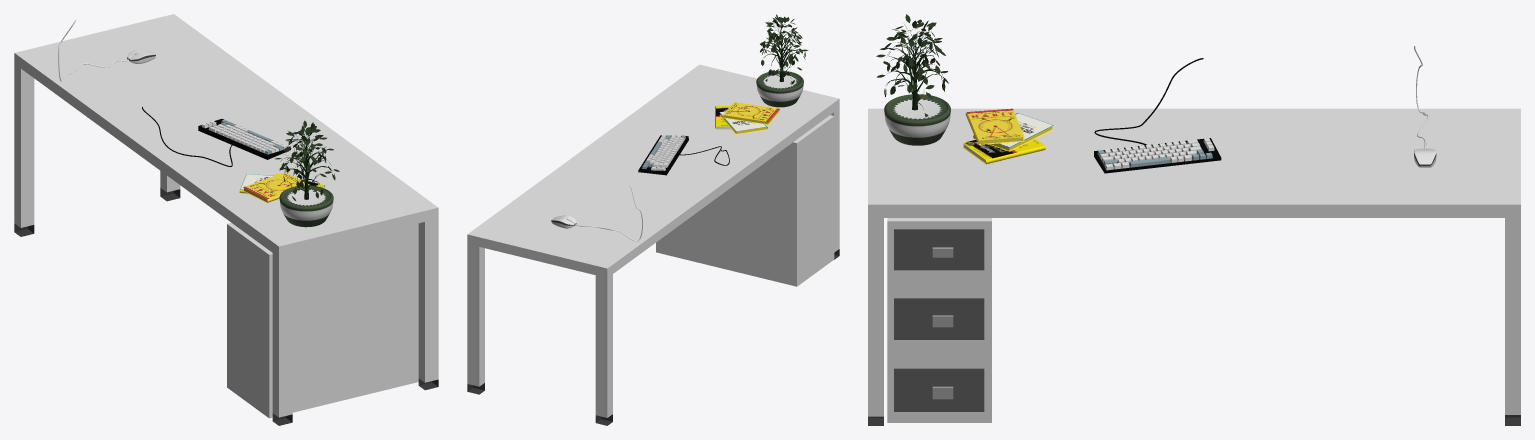
Rendered from Desk.glb.
3 views of the same model, side by side, from view 1: azimuth 30°, elevation 25°; view 2: azimuth 150°, elevation 25°; view 3: azimuth 270°, elevation 25° (orthographic). The views are drawn at different scales.
Visible parts, largest first — view 1: bureau, ladekast, plantenpot, keyboard, leaves, boek3, tree; view 2: bureau, ladekast, plantenpot, keyboard, leaves, boek3, tree, boek2; view 3: bureau, ladekast, keyboard, plantenpot, leaves, boek3, boek1, tree, boek2.
Part boxes in pixels (<box>): bureau: <box>14,14,438,425</box>; ladekast: <box>227,223,418,418</box>; plantenpot: <box>279,185,333,227</box>; keyboard: <box>198,119,291,159</box>; leaves: <box>274,120,339,200</box>; boek3: <box>243,172,309,202</box>; tree: <box>284,135,332,199</box>; bureau: <box>467,64,839,425</box>; ladekast: <box>656,115,834,286</box>; plantenpot: <box>756,70,803,107</box>; keyboard: <box>638,135,688,175</box>; leaves: <box>760,14,808,84</box>; boek3: <box>723,102,779,124</box>; tree: <box>763,24,803,81</box>; boek2: <box>719,111,767,134</box>; bureau: <box>868,108,1520,425</box>; ladekast: <box>887,218,991,422</box>; keyboard: <box>1094,138,1221,173</box>; plantenpot: <box>884,94,950,145</box>; leaves: <box>876,14,948,117</box>; boek3: <box>965,108,1024,144</box>; boek1: <box>963,139,1045,164</box>; tree: <box>885,30,944,110</box>; boek2: <box>973,113,1053,151</box>.
Size of the model in its own units: 1.33 by 2.15 by 3.72.
Materials: 18 (3 with a texture image).
